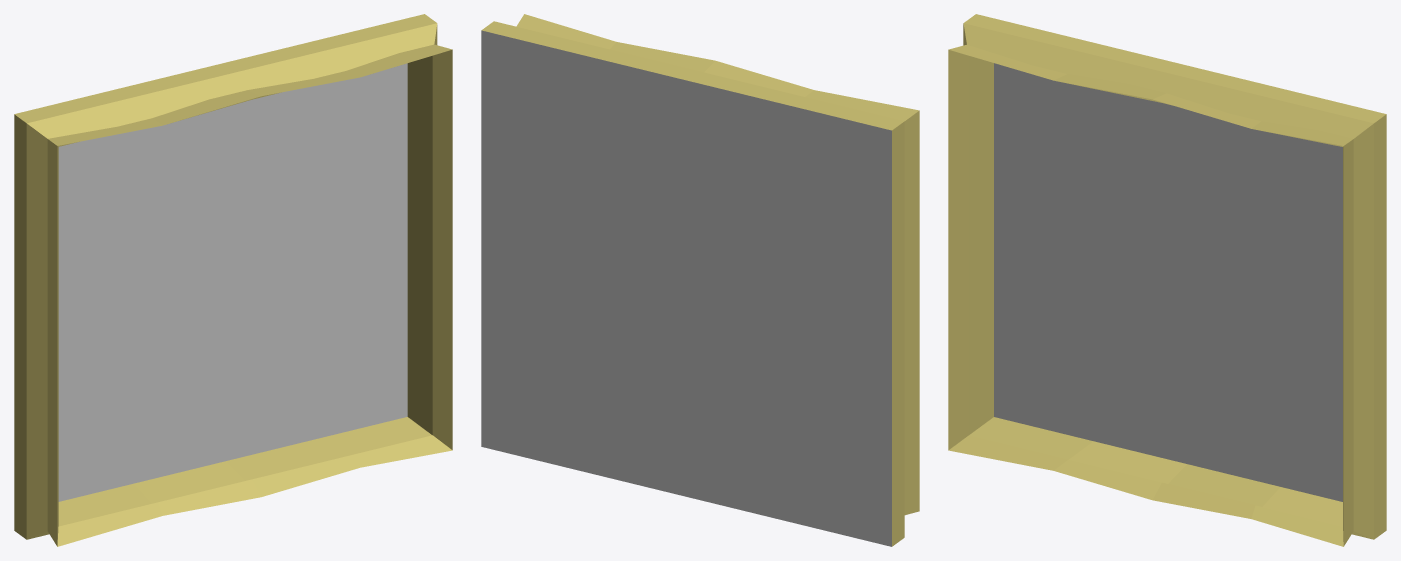
Rendered from pictureframe2.fbx.
3 renders of one model, left to right at view 1: azimuth 30°, elevation 25°; view 2: azimuth 150°, elevation 25°; view 3: azimuth 330°, elevation 25°, orthographic.
Parts seen in each view (by area): view 1: Cube; view 2: Cube; view 3: Cube.
Part boxes in pixels (left/top/right/bottom): Cube: left=14, top=14, right=452, bottom=546; Cube: left=481, top=14, right=919, bottom=546; Cube: left=948, top=14, right=1386, bottom=546.
Size of the model in its own units: 3.64 by 3.53 by 0.5453.
